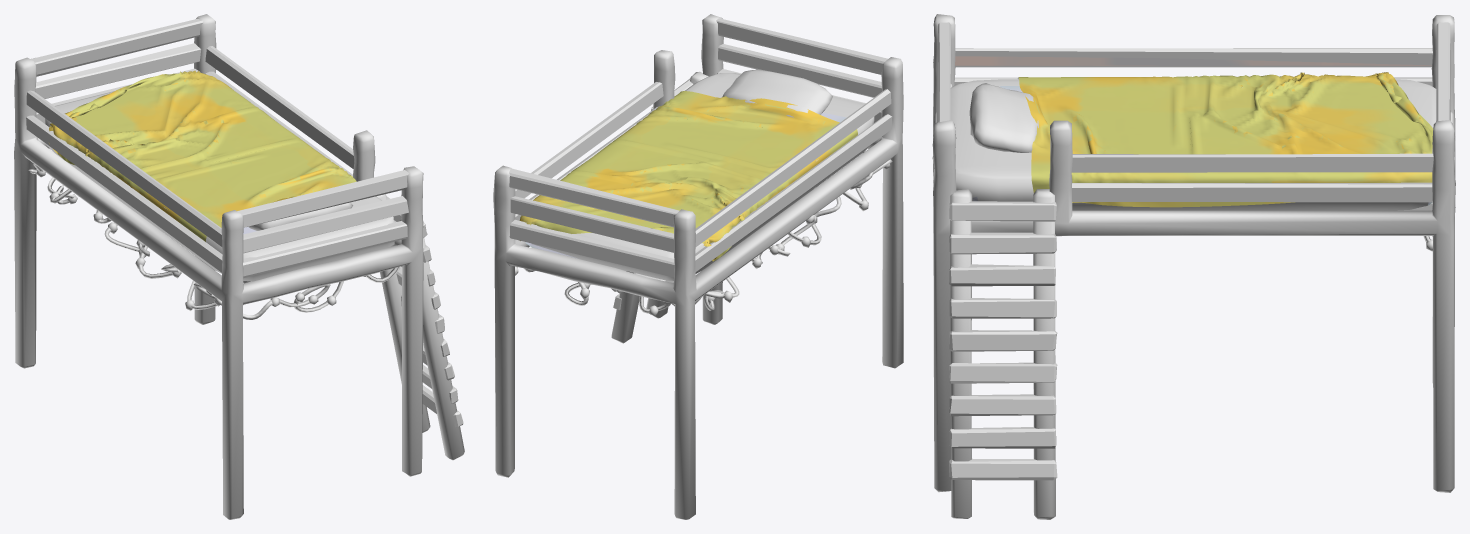
Rendered from Bunk-Bed-colored.fbx.
The picture shows the model from 3 angles, left to right: view 1: azimuth 30°, elevation 25°; view 2: azimuth 150°, elevation 25°; view 3: azimuth 270°, elevation 25°; orthographic projection. The views are drawn at different scales.
Parts seen in each view (by area): view 1: frame, blanket, mattress, lights, pillow; view 2: frame, blanket, mattress, pillow, lights; view 3: frame, blanket, mattress, pillow.
Part boxes in pixels (bbox=[...]): frame: bbox=[14, 14, 464, 519]; blanket: bbox=[49, 70, 356, 241]; mattress: bbox=[45, 91, 394, 281]; lights: bbox=[28, 148, 398, 319]; pillow: bbox=[248, 202, 352, 230]; frame: bbox=[493, 14, 903, 519]; blanket: bbox=[519, 91, 857, 261]; mattress: bbox=[525, 73, 874, 280]; pillow: bbox=[722, 69, 832, 117]; lights: bbox=[515, 150, 892, 316]; frame: bbox=[932, 14, 1455, 519]; blanket: bbox=[1018, 72, 1433, 207]; mattress: bbox=[950, 79, 1436, 210]; pillow: bbox=[969, 83, 1038, 152].
Bounding box in the file's own units: 4.19 × 4.88 × 6.3.
8 materials, 4 textured.
